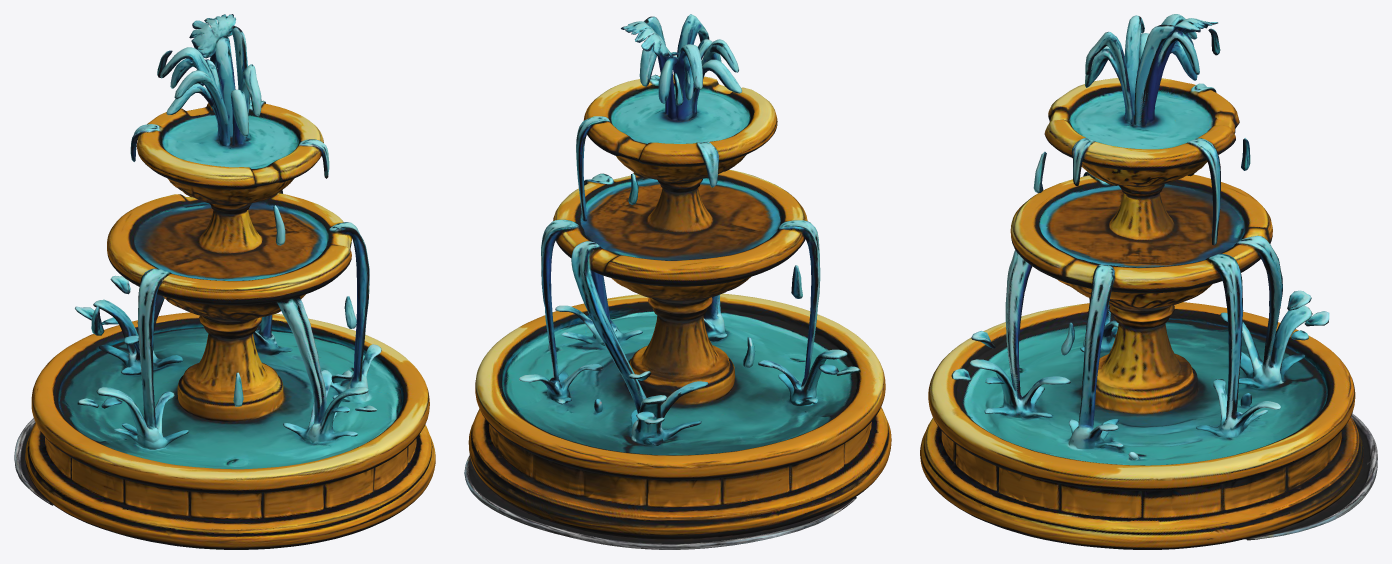
Rendered from fountain3d.glb.
3 renders of one model, left to right at view 1: azimuth 30°, elevation 25°; view 2: azimuth 150°, elevation 25°; view 3: azimuth 270°, elevation 25°, orthographic. The views are drawn at different scales.
Visible parts, largest first — view 1: tripo_node_2e745a83-8c02-44c5-a8a6-fcf5e48877b1; view 2: tripo_node_2e745a83-8c02-44c5-a8a6-fcf5e48877b1; view 3: tripo_node_2e745a83-8c02-44c5-a8a6-fcf5e48877b1.
Boxes of the visible parts, x1,y1,x2,y2 form: tripo_node_2e745a83-8c02-44c5-a8a6-fcf5e48877b1: [14, 14, 435, 549]; tripo_node_2e745a83-8c02-44c5-a8a6-fcf5e48877b1: [464, 14, 891, 549]; tripo_node_2e745a83-8c02-44c5-a8a6-fcf5e48877b1: [920, 14, 1377, 549].
Bounding box in the file's own units: 0.8685 × 1 × 0.9201.
1 material, 1 textured.
